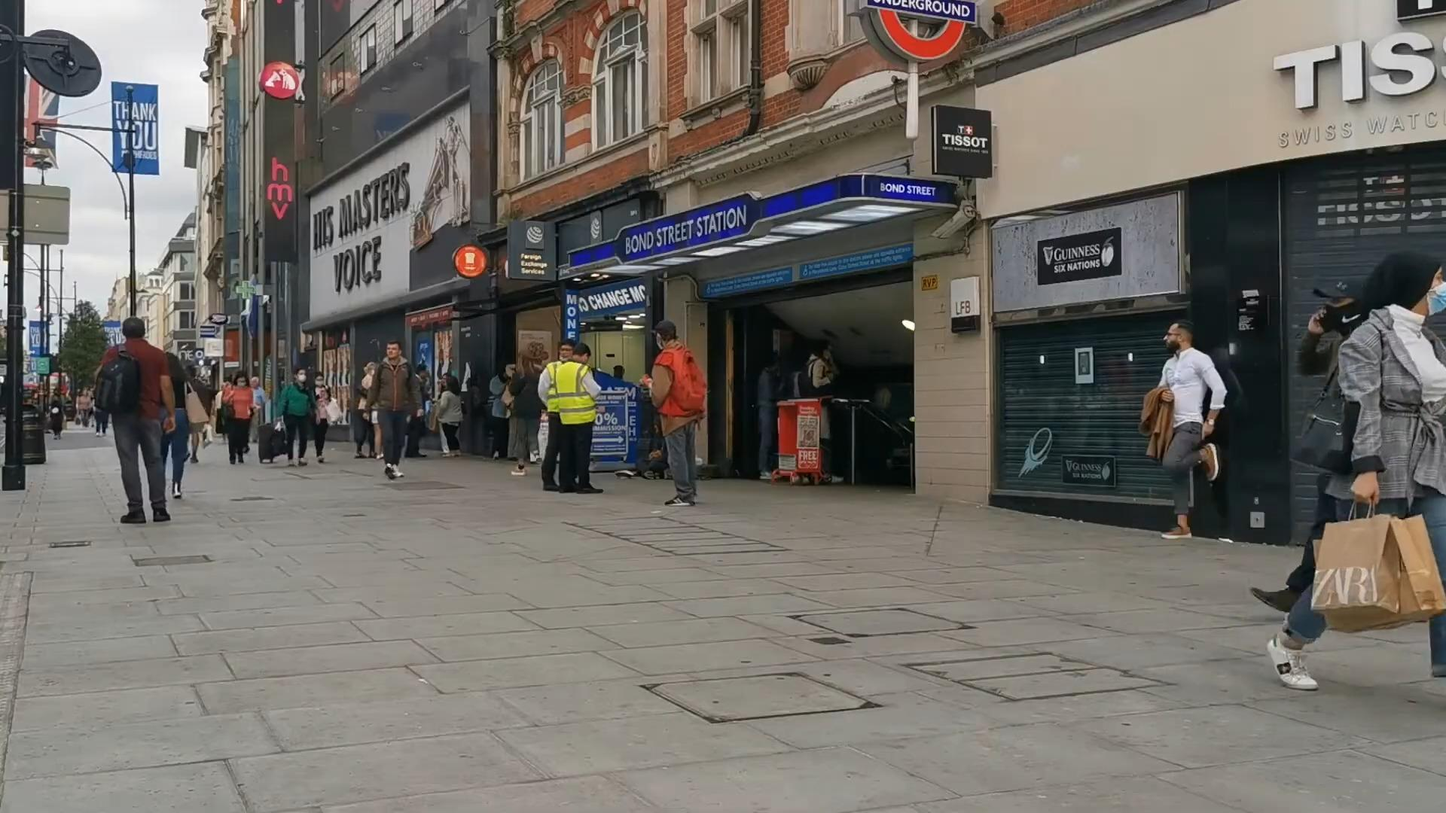no-helmet: (1372, 252, 1446, 317), (1314, 278, 1366, 336), (1163, 320, 1194, 353), (650, 319, 679, 350), (123, 317, 145, 340), (560, 339, 577, 363), (572, 343, 591, 364), (445, 375, 460, 396), (386, 340, 402, 359), (233, 371, 250, 386), (294, 367, 307, 383), (314, 371, 324, 387)
